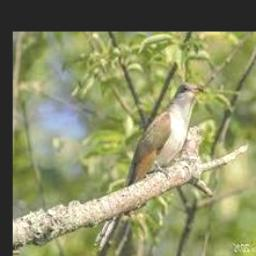Cuckoo: (95, 83, 204, 252)
